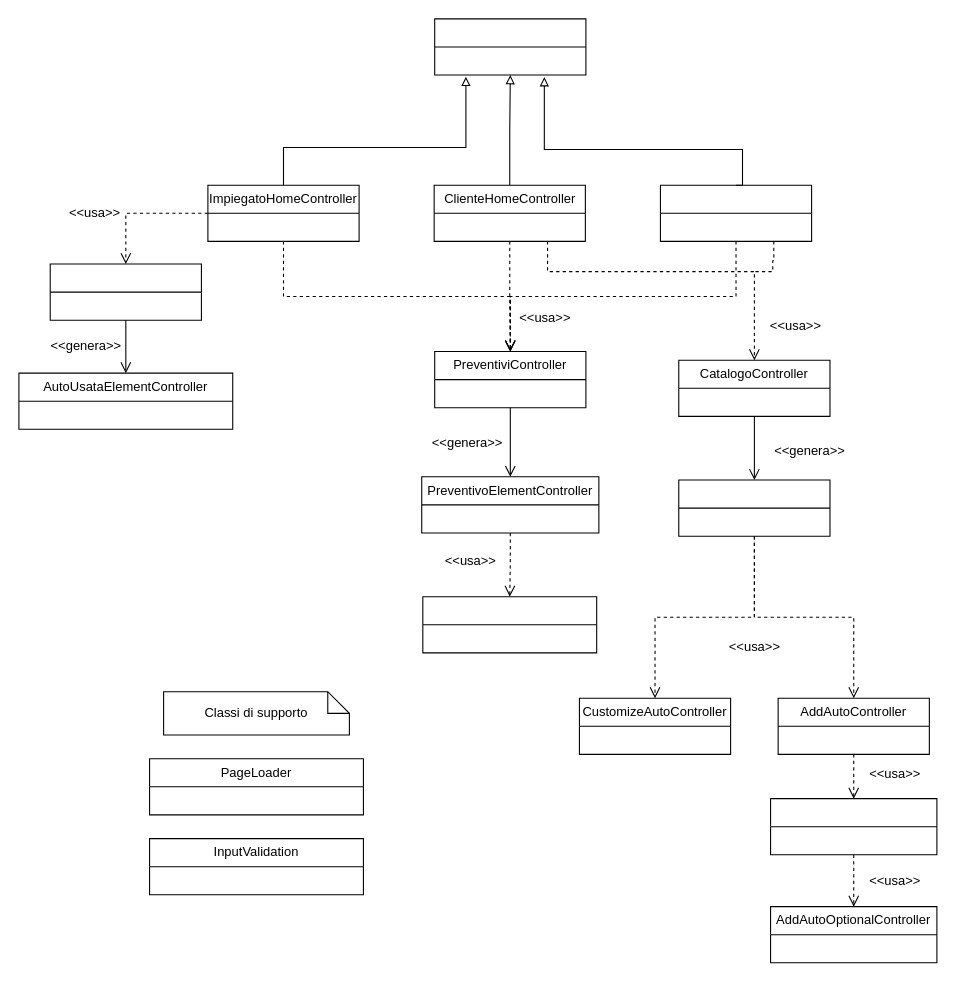
Image size: 956x982. Some labels were removed from this diagram. The shapes that lost their labels are listed below. From the top down, each one's centre as x and y in pixels, then its label:
At point 510,46: "AbstractHomeController".
At point 735,212: "SegretarioHomeController".
At point 125,291: "ValutazioneController".
At point 754,507: "AutoElementController".
At point 509,624: "PreventivoDetailsController".
At point 853,826: "AddAutoImagesController".
